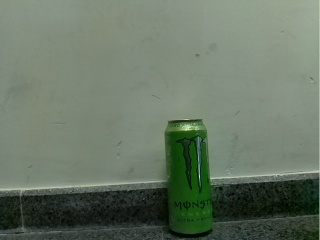botella plastico: (164, 118, 213, 235)
